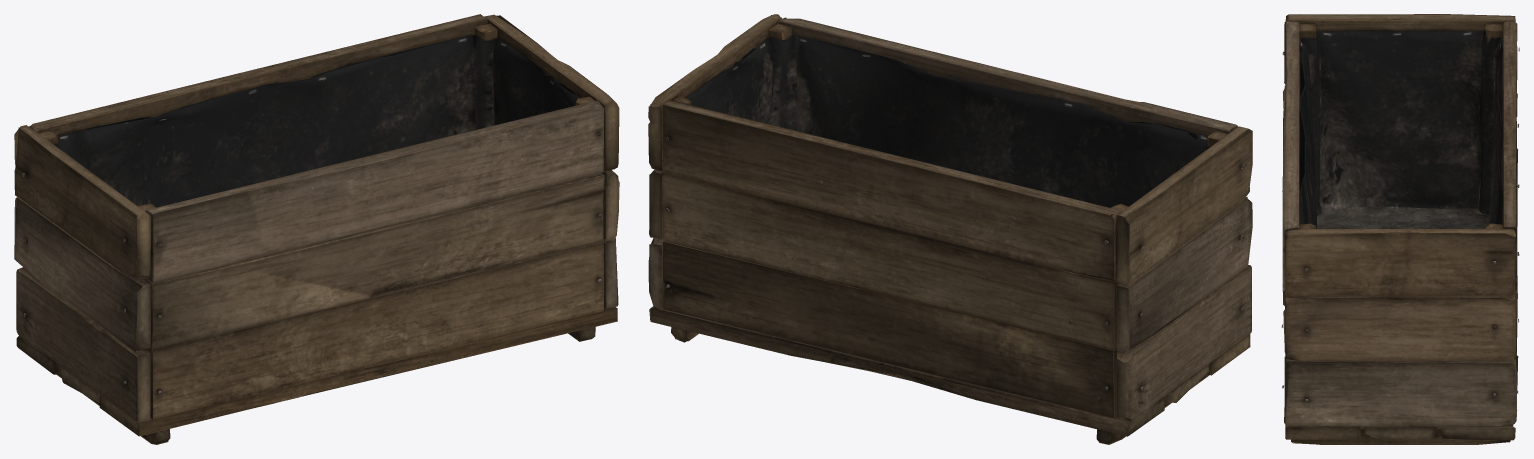
The model's file is planter_box.glb.
3 renders of one model, left to right at view 1: azimuth 30°, elevation 25°; view 2: azimuth 150°, elevation 25°; view 3: azimuth 270°, elevation 25°, orthographic. The views are drawn at different scales.
Parts seen in each view (by area): view 1: planter_box; view 2: planter_box; view 3: planter_box.
Boxes of the visible parts, bbox=[...] form: planter_box: bbox=[14, 14, 619, 444]; planter_box: bbox=[648, 14, 1252, 444]; planter_box: bbox=[1281, 14, 1519, 444].
Bounding box in the file's own units: 0.9147 × 0.4262 × 0.4156.
1 material, 1 textured.
